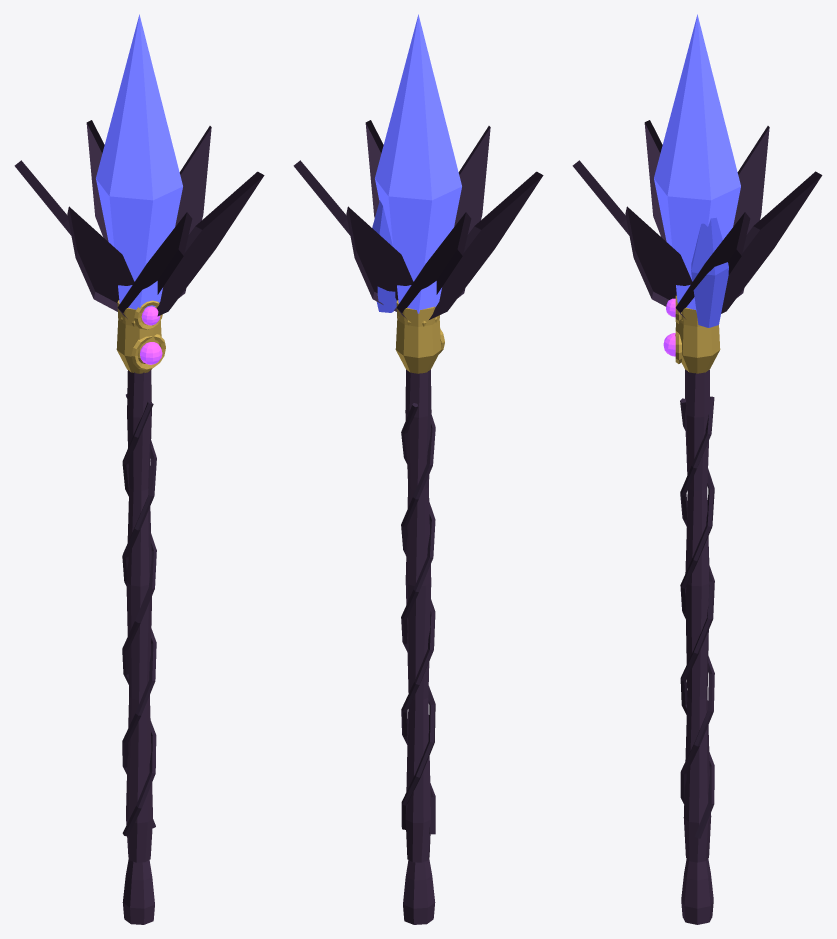
Rendered from staff_duskthorn.glb.
3 views of the same model, side by side, from view 1: azimuth 30°, elevation 25°; view 2: azimuth 150°, elevation 25°; view 3: azimuth 270°, elevation 25° (orthographic).
Visible parts, largest first — view 1: Dt_Spear, Dt_Shaft, Dt_Leaf4, Dt_Leaf2, Dt_Vine1, Dt_Leaf3, Dt_Leaf5, Dt_Vine0, Dt_Butt, Dt_Neck, Dt_Leaf0, Dt_Leaf1; view 2: Dt_Spear, Dt_Shaft, Dt_Leaf2, Dt_Leaf0, Dt_Neck, Dt_Vine0, Dt_Leaf1, Dt_Vine1, Dt_Leaf3, Dt_Butt, Dt_Spear2, Dt_Leaf4 (+1 smaller); view 3: Dt_Spear, Dt_Shaft, Dt_Leaf0, Dt_Leaf4, Dt_Spear2, Dt_Vine0, Dt_Vine1, Dt_Leaf1, Dt_Neck, Dt_Butt, Dt_Leaf5, Dt_Leaf2 (+1 smaller).
Part boxes in pixels (left/top/right/bottom): Dt_Spear: left=96, top=14, right=182, bottom=309; Dt_Shaft: left=126, top=370, right=152, bottom=862; Dt_Leaf4: left=156, top=171, right=264, bottom=316; Dt_Leaf2: left=67, top=206, right=134, bottom=311; Dt_Vine1: left=122, top=401, right=156, bottom=836; Dt_Leaf3: left=117, top=212, right=192, bottom=318; Dt_Leaf5: left=175, top=126, right=211, bottom=298; Dt_Vine0: left=122, top=394, right=156, bottom=828; Dt_Butt: left=122, top=858, right=154, bottom=924; Dt_Neck: left=116, top=300, right=161, bottom=373; Dt_Leaf0: left=86, top=120, right=108, bottom=241; Dt_Leaf1: left=14, top=160, right=71, bottom=235; Dt_Spear: left=375, top=14, right=461, bottom=313; Dt_Shaft: left=405, top=369, right=431, bottom=862; Dt_Leaf2: left=429, top=171, right=543, bottom=319; Dt_Leaf0: left=346, top=206, right=413, bottom=311; Dt_Neck: left=395, top=300, right=441, bottom=373; Dt_Vine0: left=401, top=403, right=435, bottom=829; Dt_Leaf1: left=396, top=212, right=471, bottom=318; Dt_Vine1: left=401, top=414, right=435, bottom=834; Dt_Leaf3: left=454, top=126, right=490, bottom=298; Dt_Butt: left=403, top=858, right=435, bottom=924; Dt_Spear2: left=372, top=200, right=396, bottom=312; Dt_Leaf4: left=365, top=120, right=383, bottom=217; Dt_Spear: left=654, top=14, right=740, bottom=311; Dt_Shaft: left=683, top=369, right=711, bottom=862; Dt_Leaf0: left=721, top=171, right=822, bottom=313; Dt_Leaf4: left=625, top=206, right=692, bottom=306; Dt_Spear2: left=691, top=217, right=728, bottom=327; Dt_Vine0: left=680, top=396, right=714, bottom=838; Dt_Vine1: left=680, top=398, right=714, bottom=804; Dt_Leaf1: left=733, top=126, right=769, bottom=298; Dt_Neck: left=675, top=307, right=720, bottom=373; Dt_Butt: left=681, top=859, right=713, bottom=924; Dt_Leaf5: left=675, top=212, right=750, bottom=318; Dt_Leaf2: left=644, top=120, right=666, bottom=241.
Bounding box in the file's own units: 0.6113 × 2.68 × 0.6714.
